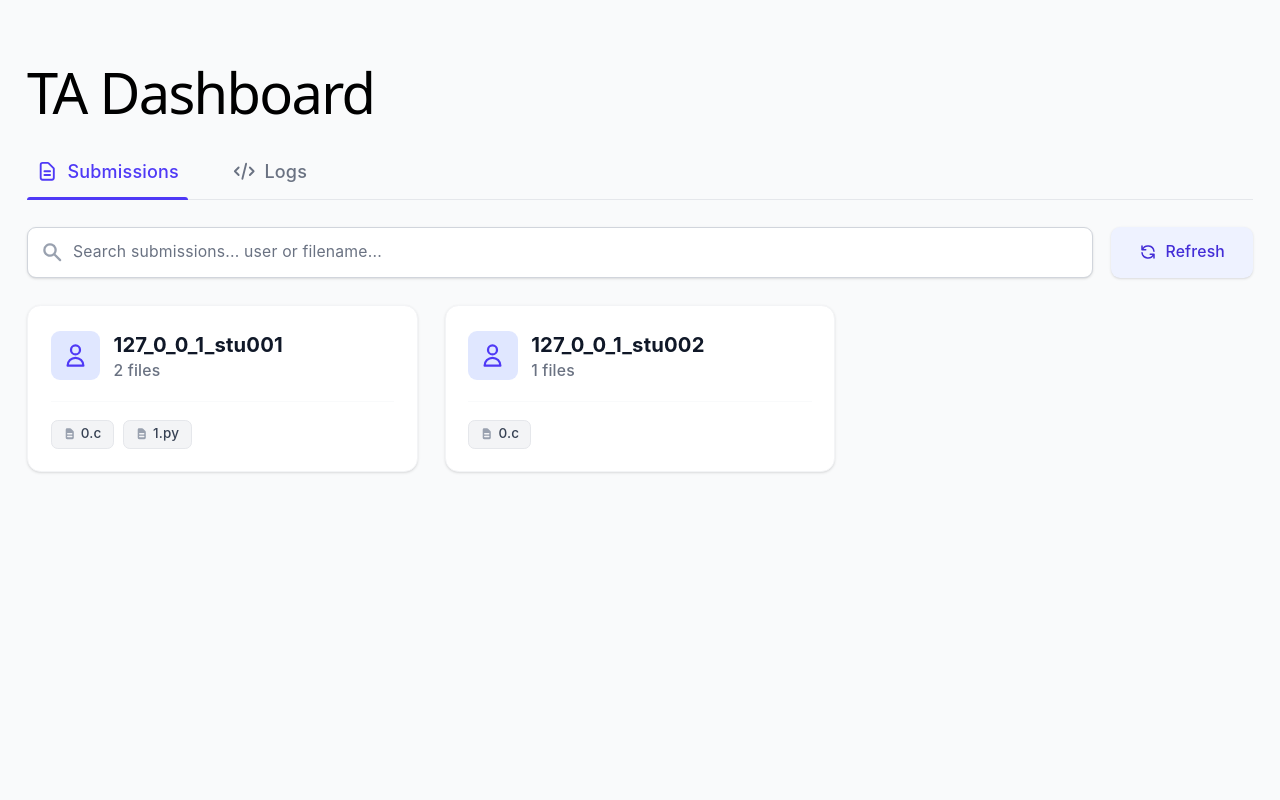
Scenario: DashboardPage › should open modal when clicking a submission
The image size is (1280, 800).
Click the element with test id "submission-127_0_0_1_stu001" at (222, 389), box x1=27 y1=305 x2=418 y2=472
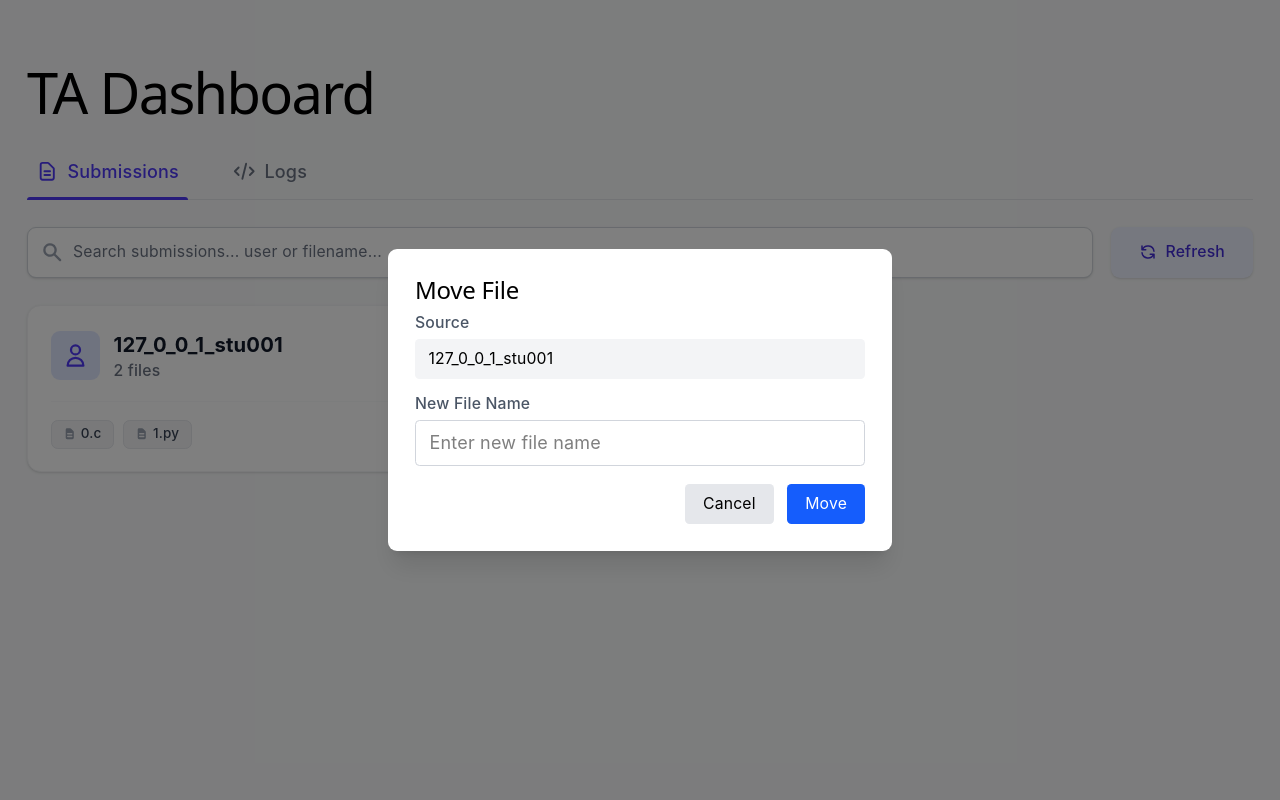
Expected: the element with test id "move-file-modal" is shown, x1=388 y1=248 x2=892 y2=551
Expected: the text with test id "modal-source" reads "127_0_0_1_stu001", x1=428 y1=349 x2=553 y2=368
